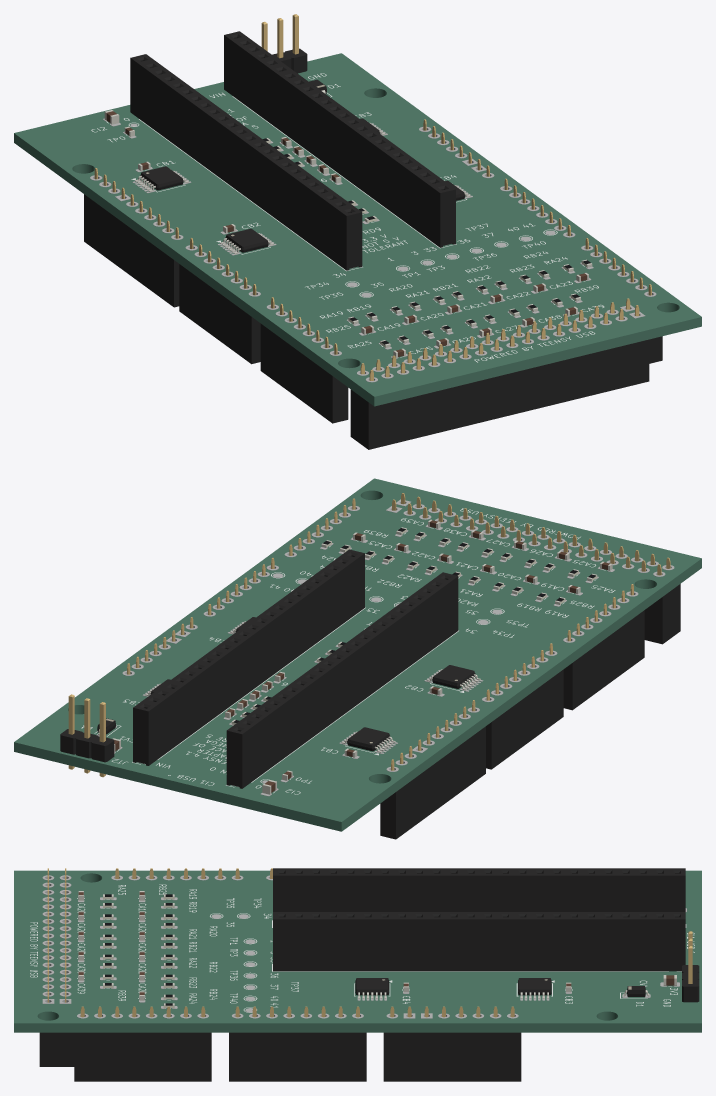
The model's file is teensy-adapter.glb.
The picture shows the model from 3 angles, top to bottom: view 1: azimuth 30°, elevation 25°; view 2: azimuth 150°, elevation 25°; view 3: azimuth 270°, elevation 25°; orthographic projection. The views are drawn at different scales.
Parts seen in each view (by area): view 1: =>[0:1:1:14], JT1, JT2, JM1_2_VISUAL, =>[0:1:1:12], JM1_1_VISUAL, JM1_3_VISUAL, JM1_4_VISUAL, =>[0:1:1:13], U1, U2, JM1_5_VISUAL; view 2: =>[0:1:1:14], JT1, JT2, =>[0:1:1:12], JM1_1_VISUAL, JM1_3_VISUAL, JM1_4_VISUAL, JM1_2_VISUAL, =>[0:1:1:13], U1, U2, TPV (+2 smaller); view 3: =>[0:1:1:14], JT2, JT1, JM1_0_VISUAL, JM1_6_VISUAL, JM1_5_VISUAL, =>[0:1:1:12], =>[0:1:1:13], JM1_2_VISUAL, U4, U3, TPG (+1 smaller).
Part boxes in pixels (x1=…): =>[0:1:1:14]: x1=14, y1=53, x2=701, y2=406; JT1: x1=130, y1=54, x2=362, y2=270; JT2: x1=224, y1=31, x2=455, y2=247; JM1_2_VISUAL: x1=350, y1=298, x2=649, y2=449; =>[0:1:1:12]: x1=90, y1=118, x2=656, y2=382; JM1_1_VISUAL: x1=84, y1=168, x2=179, y2=307; JM1_3_VISUAL: x1=260, y1=297, x2=348, y2=423; JM1_4_VISUAL: x1=179, y1=238, x2=260, y2=364; =>[0:1:1:13]: x1=91, y1=73, x2=604, y2=362; U1: x1=135, y1=166, x2=188, y2=191; U2: x1=220, y1=228, x2=273, y2=254; JM1_5_VISUAL: x1=585, y1=238, x2=662, y2=363; =>[0:1:1:14]: x1=14, y1=478, x2=701, y2=831; JT1: x1=226, y1=572, x2=458, y2=788; JT2: x1=133, y1=549, x2=364, y2=765; =>[0:1:1:12]: x1=96, y1=499, x2=674, y2=796; JM1_1_VISUAL: x1=380, y1=700, x2=485, y2=839; JM1_3_VISUAL: x1=563, y1=584, x2=644, y2=710; JM1_4_VISUAL: x1=486, y1=643, x2=563, y2=769; JM1_2_VISUAL: x1=392, y1=493, x2=680, y2=644; =>[0:1:1:13]: x1=81, y1=508, x2=615, y2=794; U1: x1=341, y1=727, x2=395, y2=752; U2: x1=426, y1=665, x2=480, y2=690; TPV: x1=91, y1=702, x2=114, y2=777; =>[0:1:1:14]: x1=14, y1=870, x2=701, y2=1032; JT2: x1=273, y1=912, x2=685, y2=971; JT1: x1=273, y1=868, x2=685, y2=911; JM1_0_VISUAL: x1=383, y1=1006, x2=521, y2=1081; JM1_6_VISUAL: x1=229, y1=1006, x2=366, y2=1081; JM1_5_VISUAL: x1=74, y1=1006, x2=211, y2=1081; =>[0:1:1:12]: x1=42, y1=875, x2=686, y2=1018; =>[0:1:1:13]: x1=30, y1=884, x2=694, y2=1012; JM1_2_VISUAL: x1=39, y1=868, x2=74, y2=1066; U4: x1=355, y1=978, x2=389, y2=998; U3: x1=518, y1=978, x2=551, y2=998; TPG: x1=682, y1=946, x2=699, y2=1002.
Size of the model in its own units: 0.0533 by 0.0187 by 0.1016.
